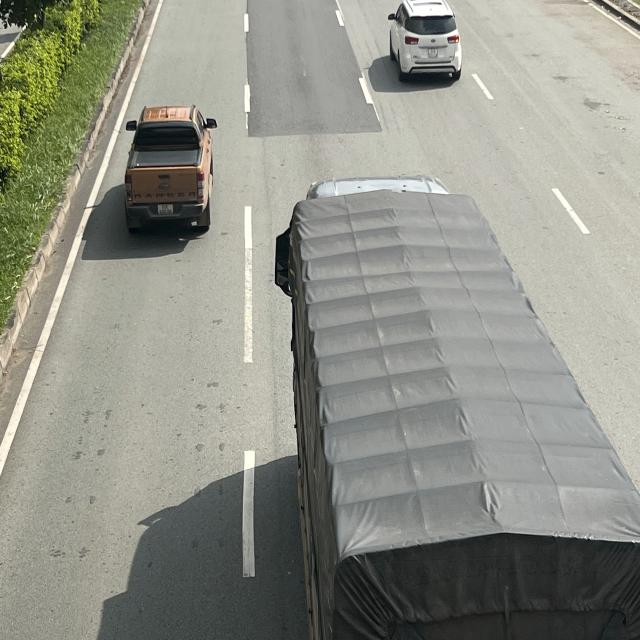car: (122, 104, 217, 230), (388, 0, 463, 80)
truck: (273, 174, 640, 640)
